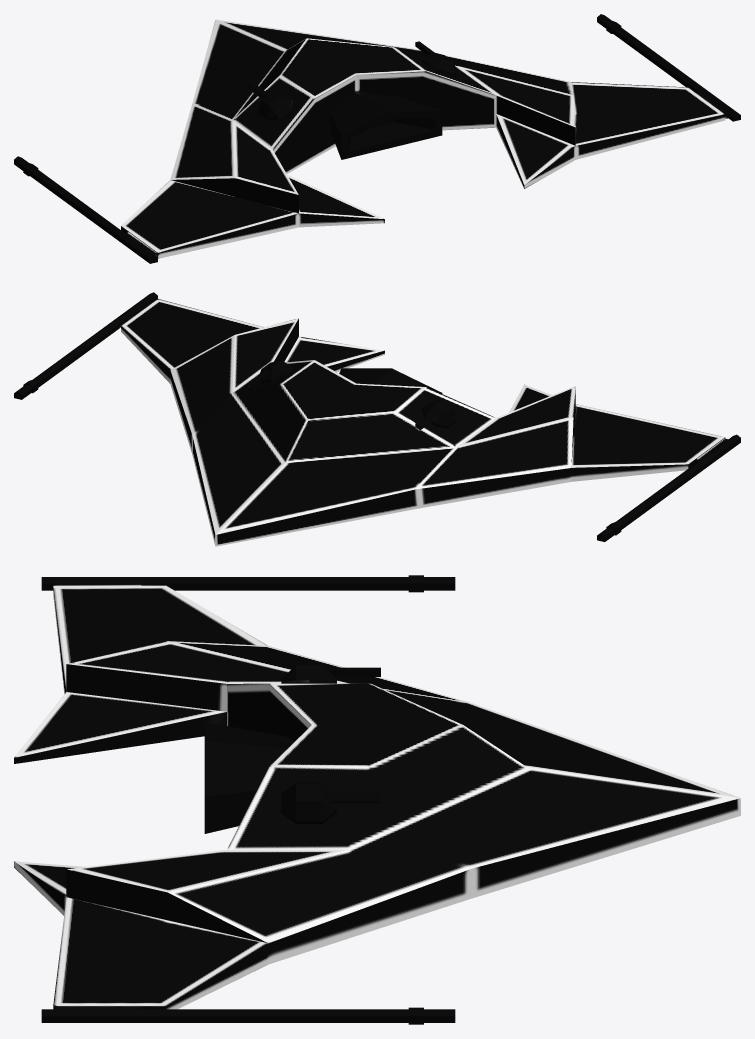
Rendered from ship4.fbx.
3 views of the same model, one above another, from view 1: azimuth 30°, elevation 25°; view 2: azimuth 150°, elevation 25°; view 3: azimuth 270°, elevation 25° (orthographic). The views are drawn at different scales.
Visible parts, largest first — view 1: ship; view 2: ship; view 3: ship.
Part boxes in pixels (<box>): ship: <box>14,14,740,263</box>; ship: <box>14,292,740,546</box>; ship: <box>14,575,740,1024</box>.
Size of the model in its own units: 393 by 37.93 by 275.
